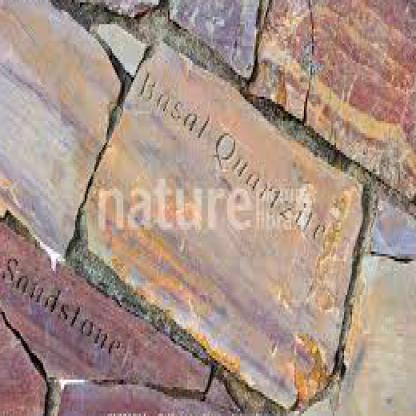Metamorphic_Quartize: (75, 12, 371, 397)
